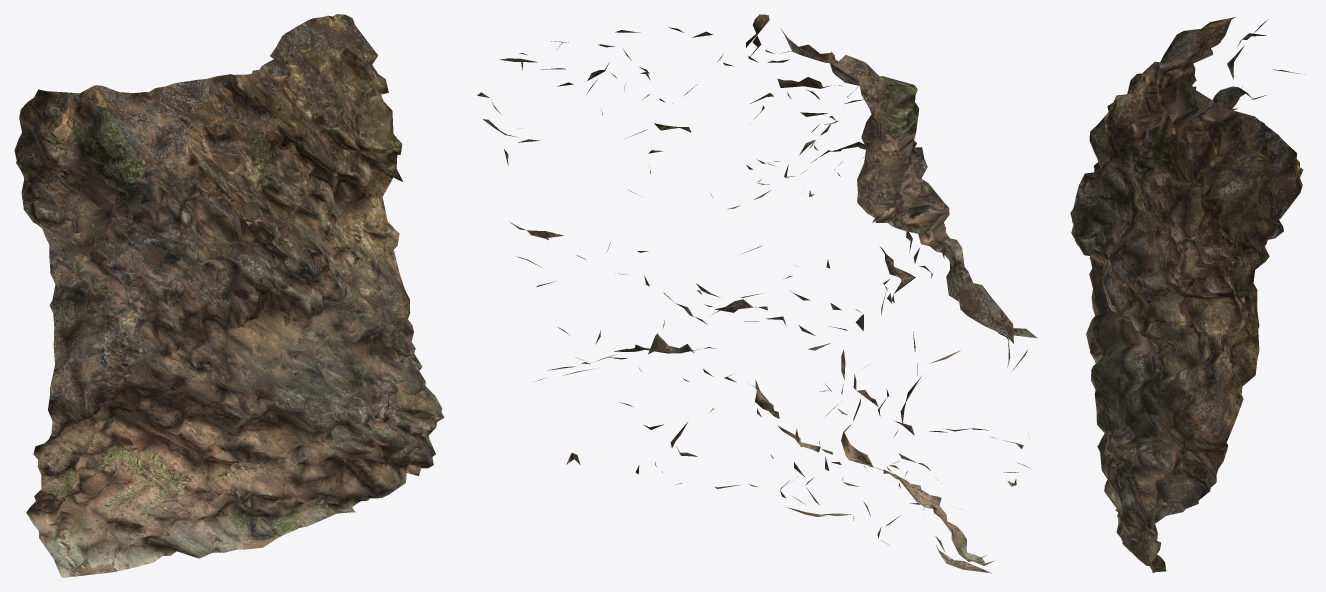
File: hill_crag.glb
3 renders of one model, left to right at view 1: azimuth 30°, elevation 25°; view 2: azimuth 150°, elevation 25°; view 3: azimuth 270°, elevation 25°, orthographic. The views are drawn at different scales.
Parts seen in each view (by area): view 1: hill_crag; view 2: hill_crag; view 3: hill_crag.
Part boxes in pixels (x1,y1,x2,y2): hill_crag: [14, 14, 444, 577]; hill_crag: [477, 14, 1037, 573]; hill_crag: [1070, 17, 1304, 573].
Size of the model in its own units: 10.19 by 10.52 by 5.25.
1 material, 1 textured.
